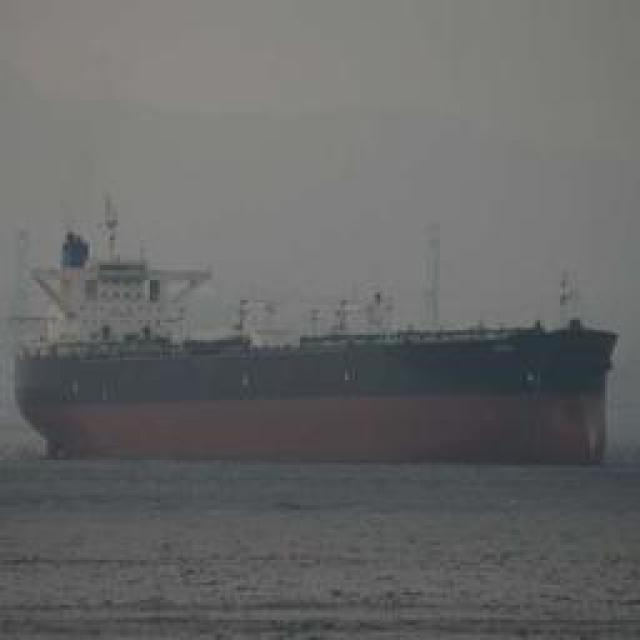Ship: (10, 185, 615, 459)
